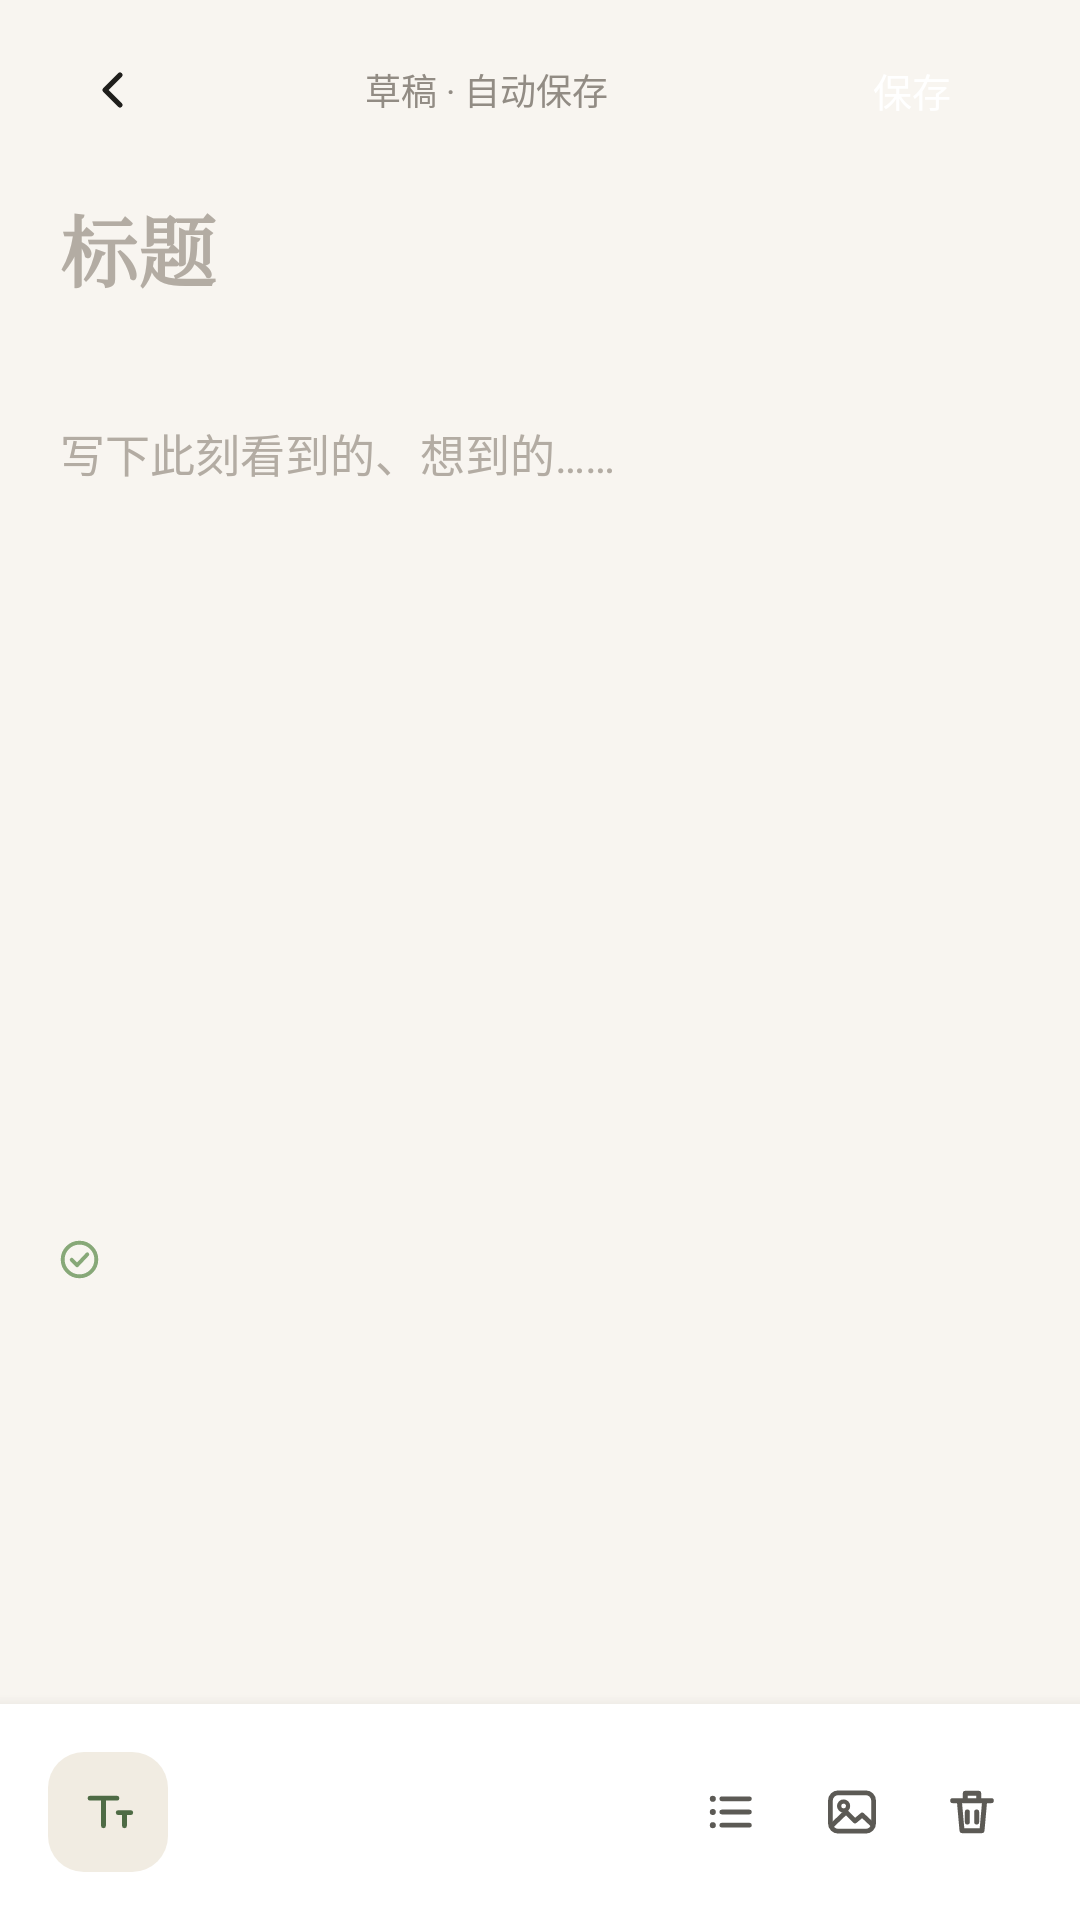

Where icons sit on this 1080 × 1920 app screen, as (x1, y1, x2, y2):
check circle: (60, 1240, 99, 1279)
list: (709, 1795, 752, 1829)
text: (87, 1795, 133, 1828)
删除这条记录: (950, 1790, 994, 1834)
返回: (102, 72, 123, 108)
